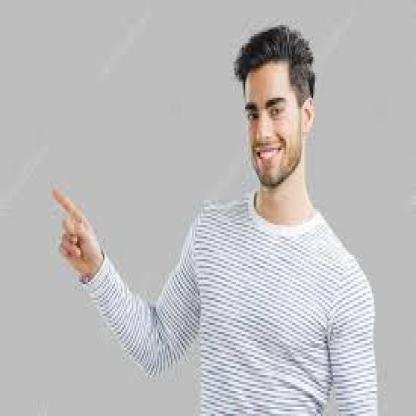Right: (40, 176, 108, 284)
